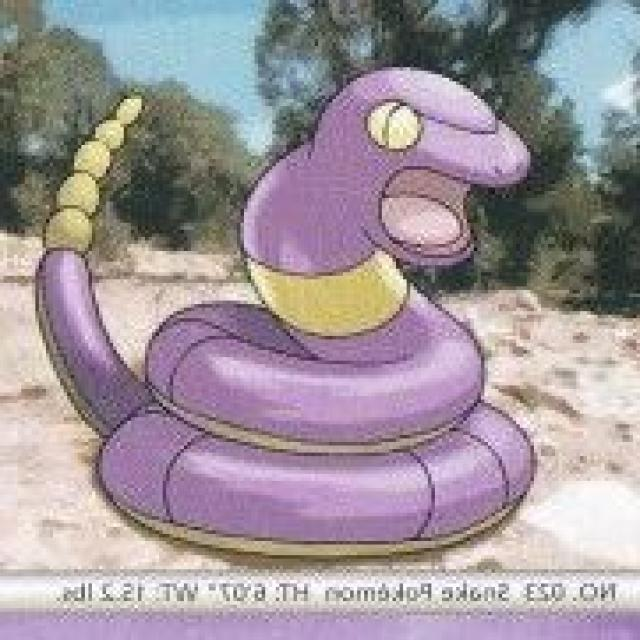Ekans: (102, 71, 537, 558)
